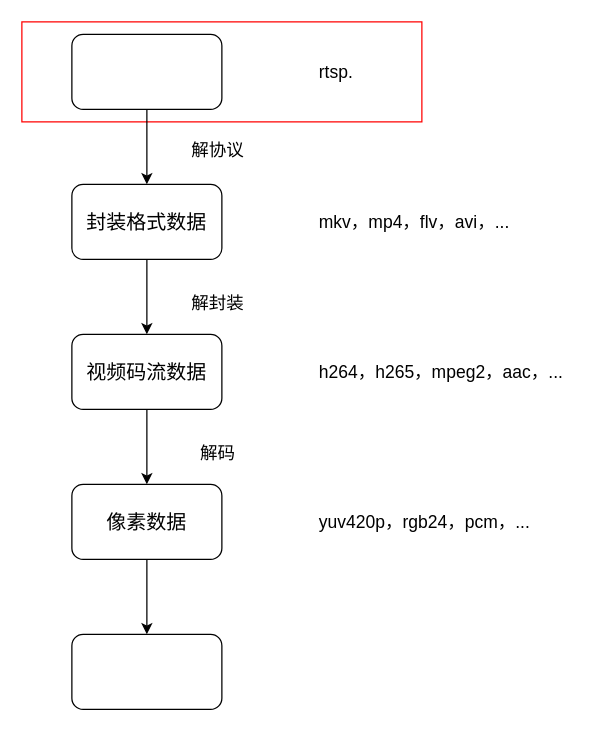
The diagram is 614 pixels wide and 731 high, and some of its shapes have lost their labels. The shapes that lost their labels are listed below. From the top down, each one's centre as x and y in pixels, then its label:
At point (146, 71): "源数据".
At point (146, 671): "显示".
